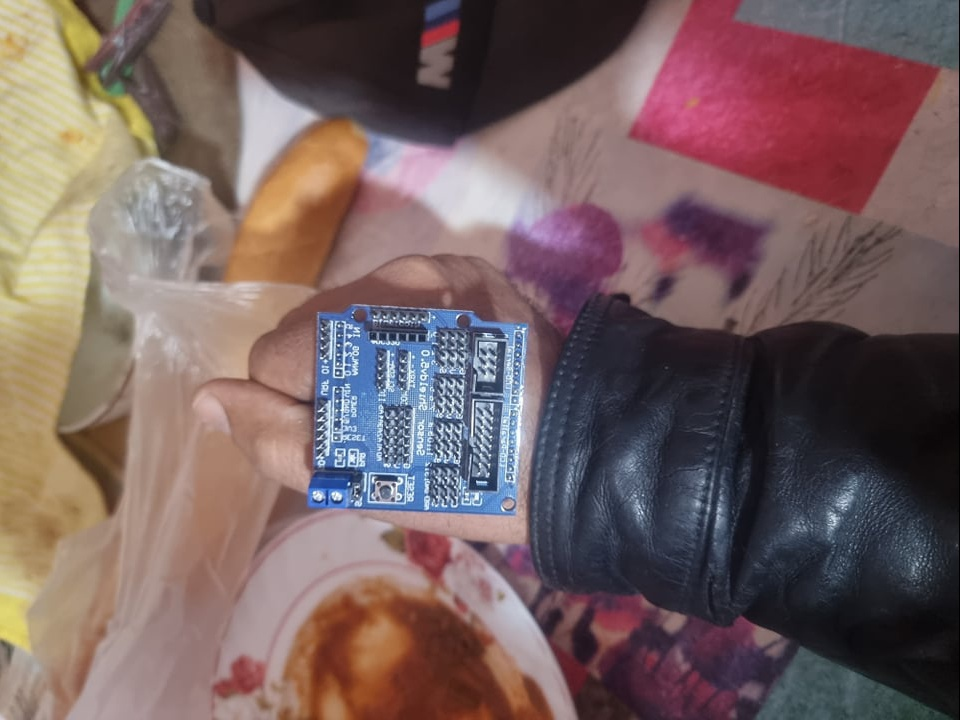5V EXPANSION: (306, 302, 520, 517)
